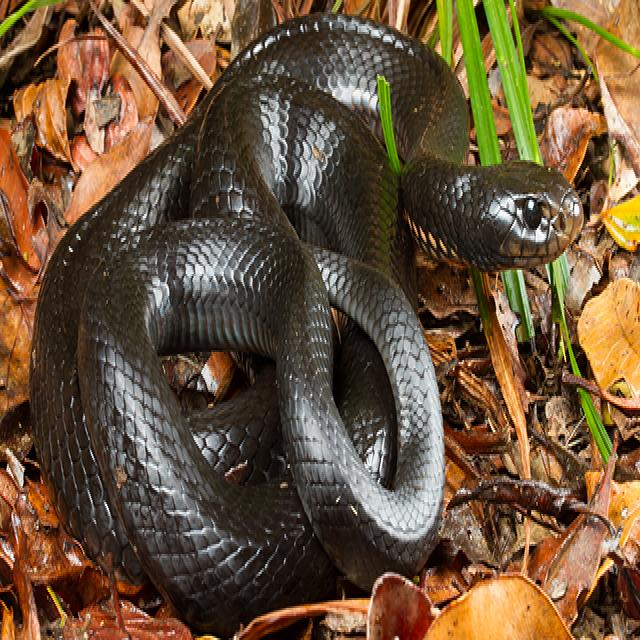Snake: (31, 14, 591, 629)
